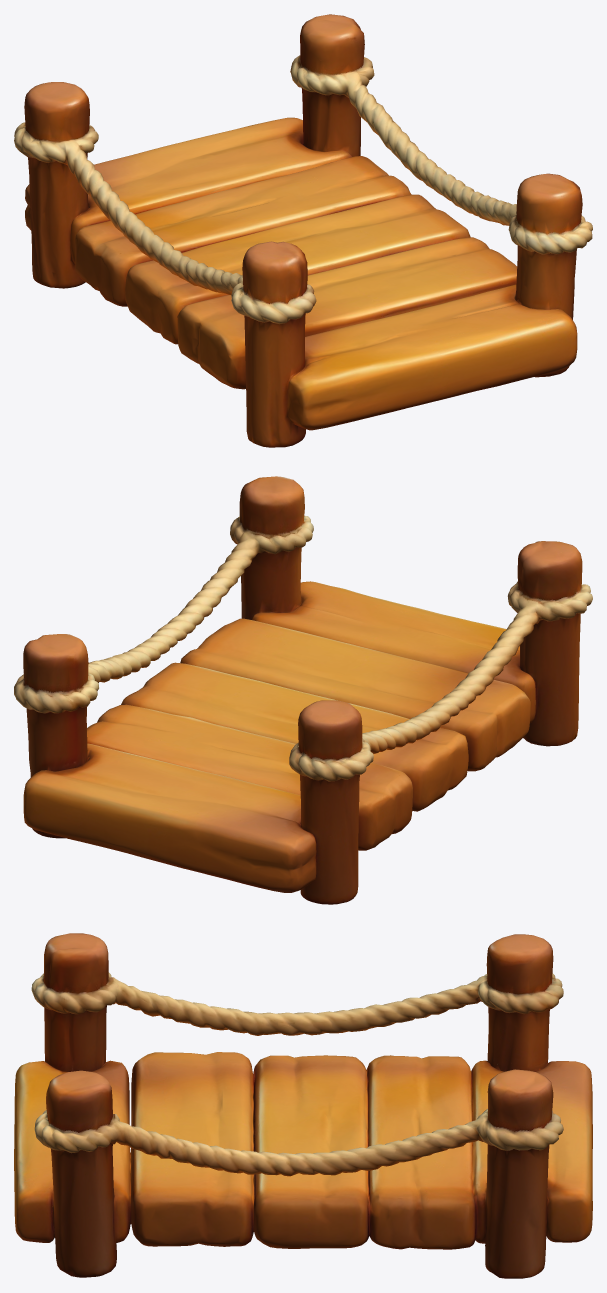
Rendered from bridge-segment.glb.
The picture shows the model from 3 angles, top to bottom: view 1: azimuth 30°, elevation 25°; view 2: azimuth 150°, elevation 25°; view 3: azimuth 270°, elevation 25°; orthographic projection.
Parts seen in each view (by area): view 1: tripo_node_97963330-7801-4b1c-bfb0-f71dbb4d2b39; view 2: tripo_node_97963330-7801-4b1c-bfb0-f71dbb4d2b39; view 3: tripo_node_97963330-7801-4b1c-bfb0-f71dbb4d2b39.
Boxes of the visible parts, x1=… form: tripo_node_97963330-7801-4b1c-bfb0-f71dbb4d2b39: x1=14, y1=14, x2=592, y2=447; tripo_node_97963330-7801-4b1c-bfb0-f71dbb4d2b39: x1=14, y1=476, x2=592, y2=904; tripo_node_97963330-7801-4b1c-bfb0-f71dbb4d2b39: x1=14, y1=933, x2=592, y2=1278.
Size of the model in its own units: 0.7121 by 0.3623 by 1.
Materials: 1 (1 with a texture image).
